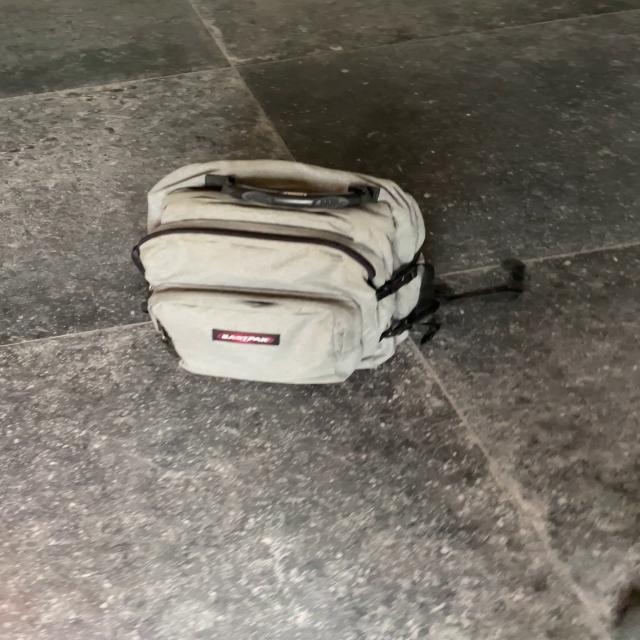backpack: (122, 152, 449, 391)
